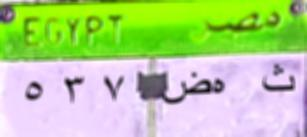3: (58, 74, 89, 107)
5: (21, 73, 46, 110)
7: (100, 69, 133, 106)
daad: (162, 69, 212, 110)
haa: (213, 76, 227, 97)
thaa: (257, 62, 300, 98)
